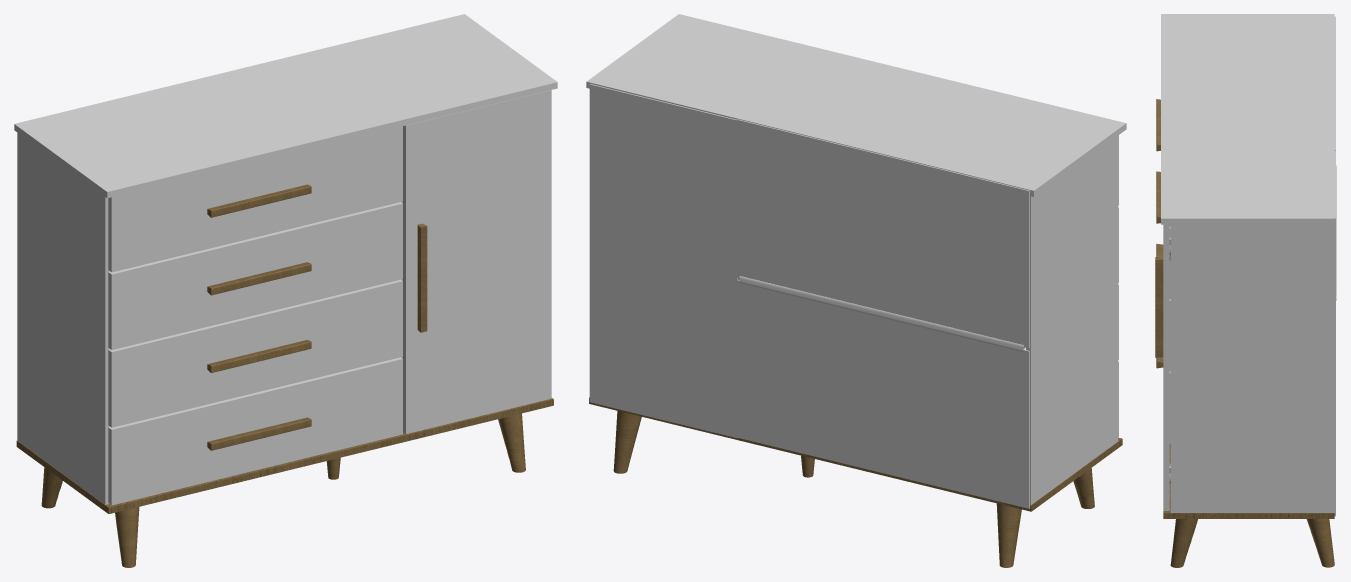
File: cmd_lud.glb
The picture shows the model from 3 angles, left to right: view 1: azimuth 30°, elevation 25°; view 2: azimuth 150°, elevation 25°; view 3: azimuth 270°, elevation 25°; orthographic projection. The views are drawn at different scales.
Parts seen in each view (by area): view 1: Porta, NAUO6, NAUO1, NAUO36, NAUO36.001, NAUO36.002, NAUO36.003, NAUO24, NAUO47, NAUO34, NAUO33, NAUO43 (+3 smaller); view 2: NAUO15, NAUO16, NAUO30, NAUO6, NAUO1, NAUO17, NAUO24, NAUO35, NAUO23; view 3: NAUO21, NAUO6, Porta, NAUO24, NAUO47, NAUO23, NAUO33, NAUO15, NAUO16, NAUO43.002, NAUO43.003.
Boxes of the visible parts, x1,y1,x2,y2 form: Porta: (402,90,551,433); NAUO6: (14,14,557,198); NAUO1: (17,133,109,504); NAUO36: (108,357,402,505); NAUO36.001: (108,279,402,427); NAUO36.002: (108,202,402,349); NAUO36.003: (108,126,402,272); NAUO24: (16,398,553,513); NAUO47: (417,223,427,332); NAUO34: (115,507,139,567); NAUO33: (498,413,525,472); NAUO43: (207,417,311,450); NAUO15: (589,84,737,438); NAUO16: (737,119,1029,348); NAUO30: (737,280,1029,508); NAUO6: (586,14,1126,196); NAUO1: (1026,136,1118,505); NAUO17: (739,276,1024,352); NAUO24: (589,397,1122,511); NAUO35: (996,503,1021,567); NAUO23: (613,411,641,473); NAUO21: (1170,224,1334,512); NAUO6: (1161,14,1334,224); Porta: (1163,224,1169,510); NAUO24: (1163,443,1334,518); NAUO47: (1155,257,1163,357); NAUO23: (1306,519,1334,567); NAUO33: (1170,519,1197,567); NAUO15: (1334,150,1335,516); NAUO16: (1334,16,1335,150); NAUO43.002: (1156,171,1160,223); NAUO43.003: (1156,99,1160,151).
Size of the model in its own units: 1.12 by 0.921 by 0.4197.
Materials: 5 (1 with a texture image).
